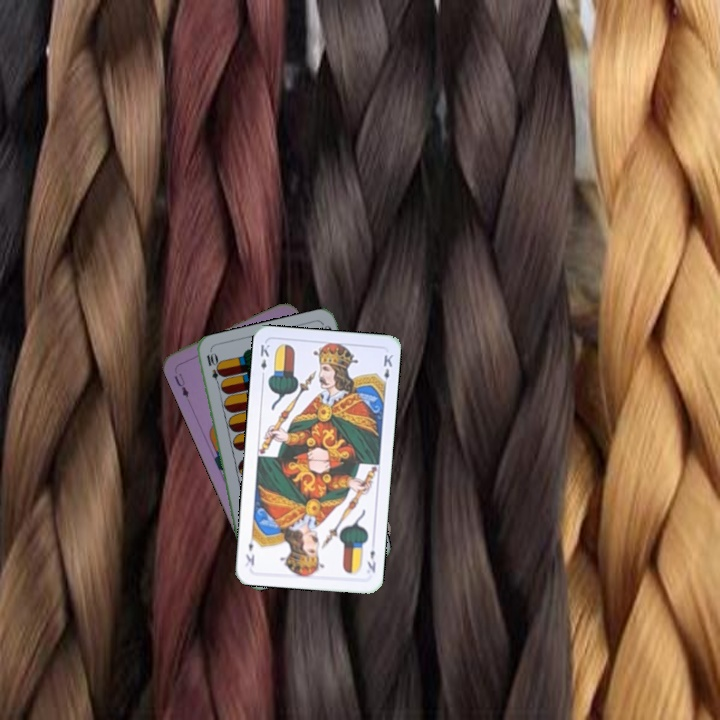E10: (202, 349, 223, 390)
EK: (256, 340, 272, 381), (363, 546, 378, 575)
EU: (170, 369, 191, 400)
